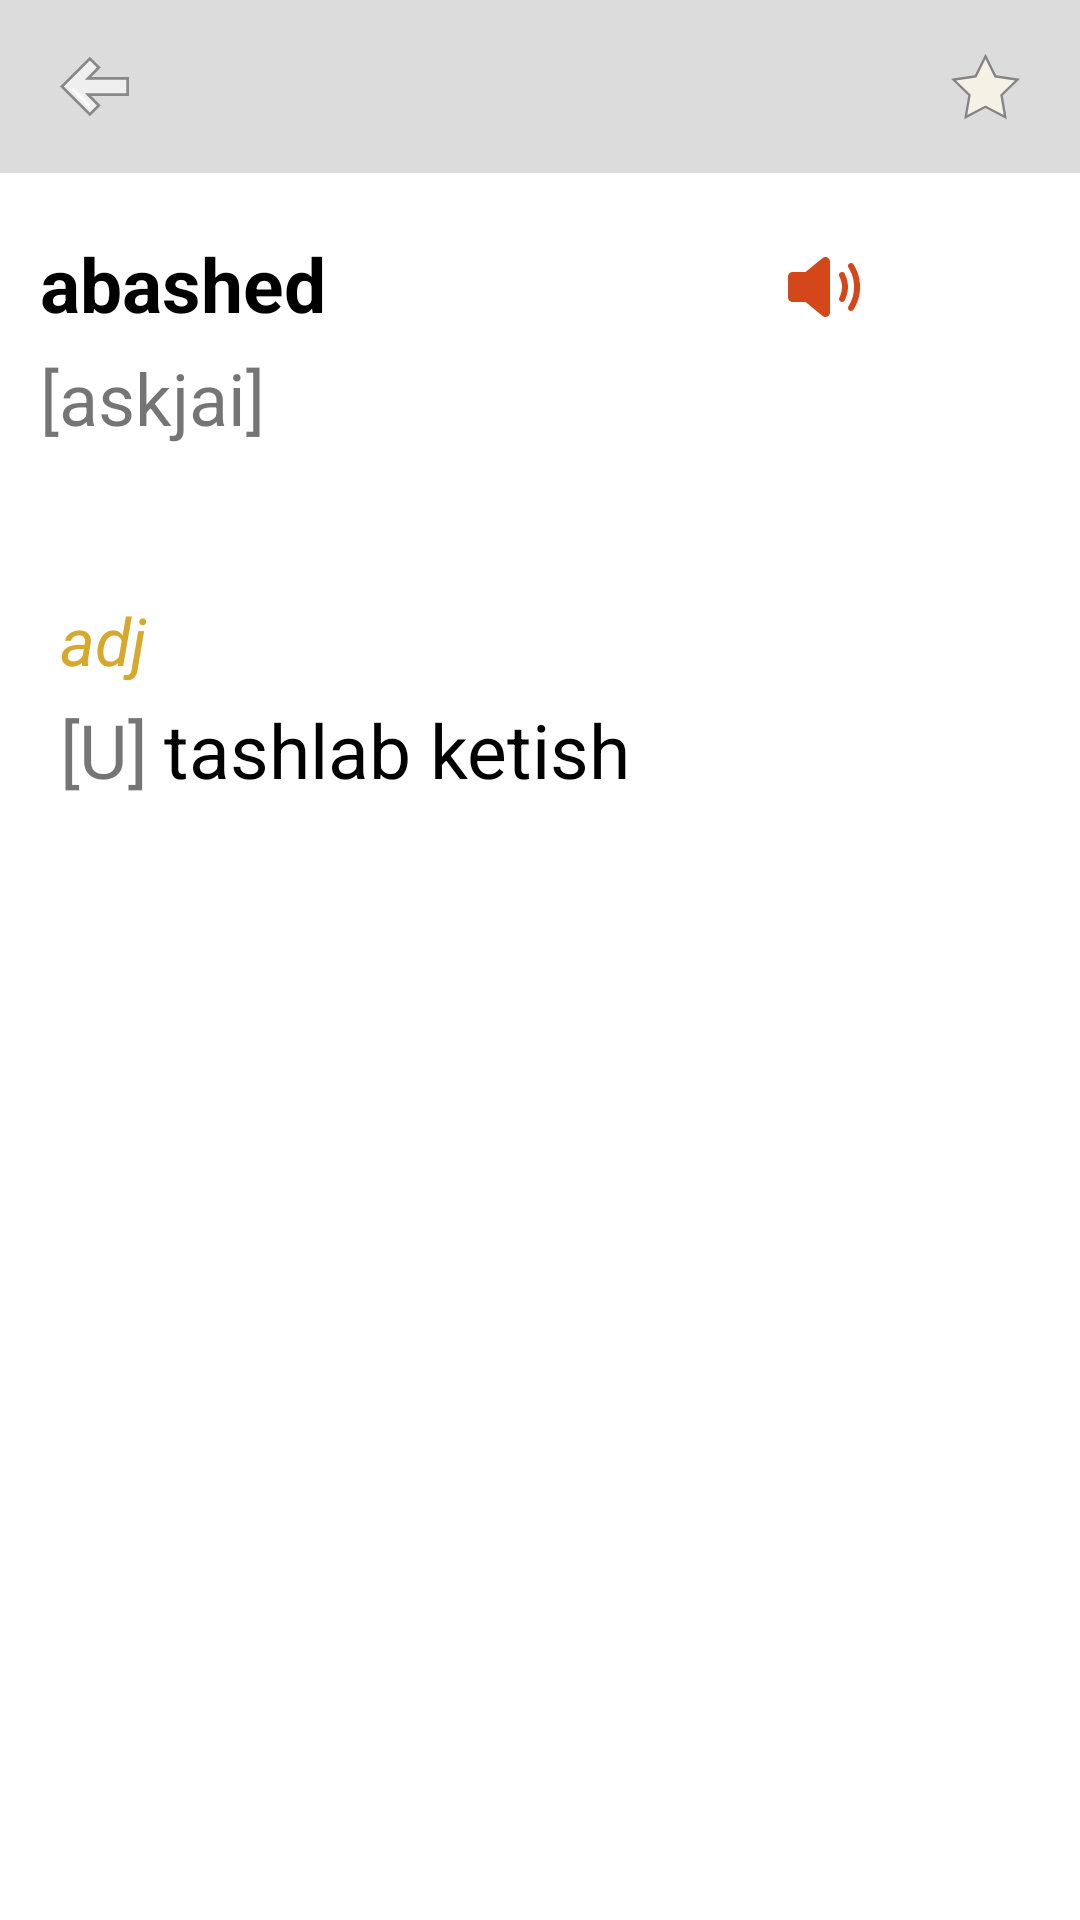

Where icons sit on this 1080×1920 app screen, as bbox(x1, y1, x2, y2):
previous back: bbox(60, 57, 129, 116)
star: bbox(951, 54, 1020, 119)
volume medium: bbox(788, 257, 860, 317)
